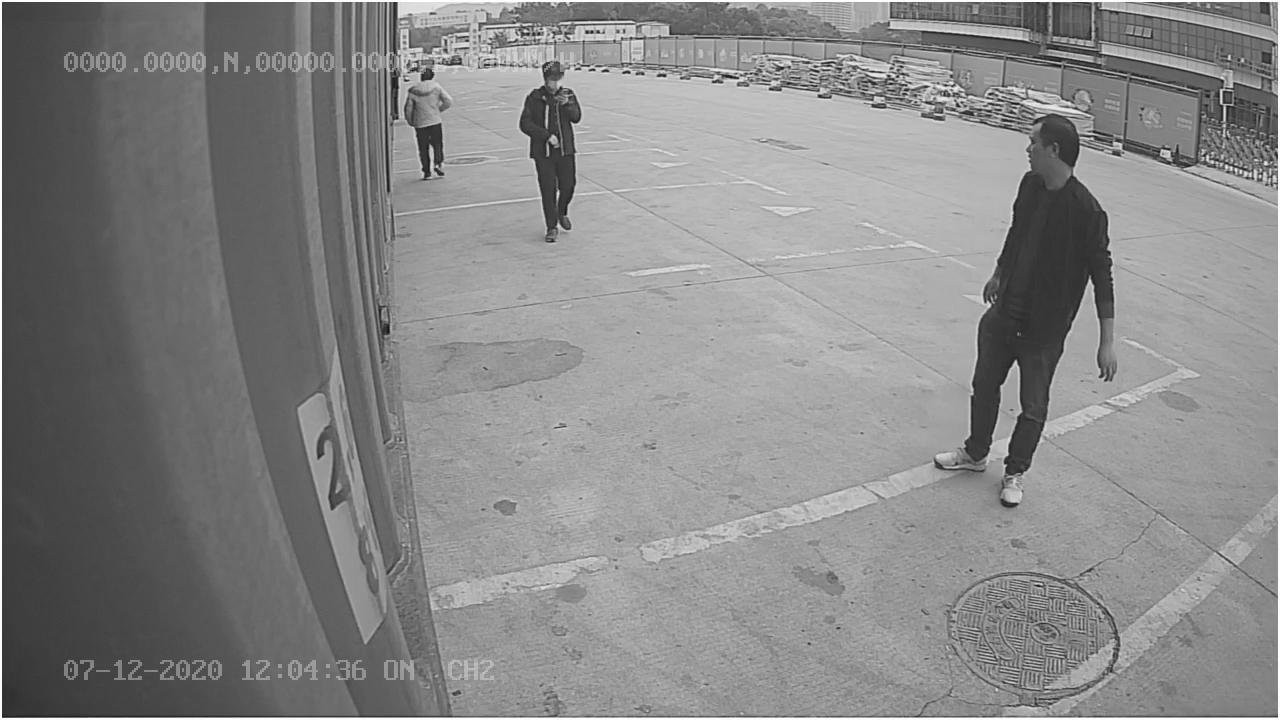person: (932, 113, 1116, 506)
